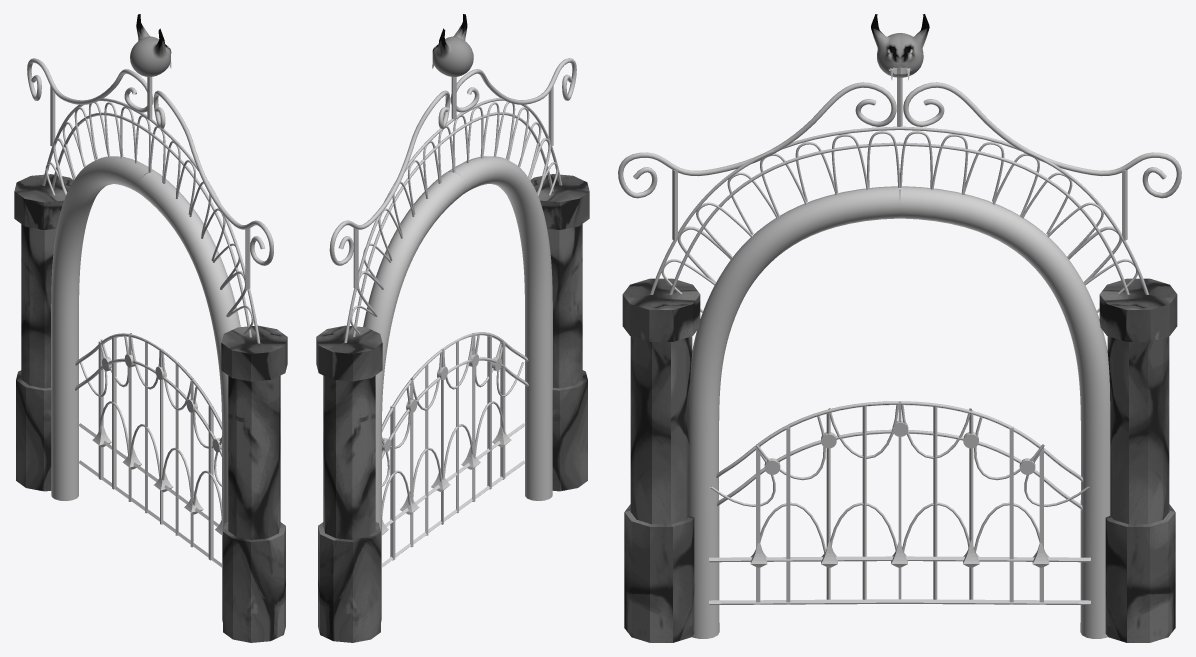
The model's file is arch_FINAL.fbx.
3 views of the same model, side by side, from view 1: azimuth 30°, elevation 25°; view 2: azimuth 150°, elevation 25°; view 3: azimuth 270°, elevation 25° (orthographic). The views are drawn at different scales.
Visible parts, largest first — view 1: Pole, NurbsPath.001, BézierCurve, Cube, test, NurbsPath.002, Cylinder.006, NurbsPath.003, Cylinder.005, BézierCurve.015, Cube.011, Cylinder.002 (+13 smaller); view 2: Pole, NurbsPath.001, BézierCurve, Cube, test, NurbsPath.002, Cylinder.006, NurbsPath.003, Cylinder.005, Cube.011, BézierCurve.015, Cylinder.002 (+13 smaller); view 3: Pole, NurbsPath.001, BézierCurve, NurbsPath.003, NurbsPath.002, test, Cylinder.003, Cylinder.006, BézierCurve.015, Cube, Cylinder, Cylinder.005 (+5 smaller).
Boxes of the visible parts, x1,y1,x2,y2 form: Pole: (14,174,287,642); NurbsPath.001: (51,156,240,621); BézierCurve: (27,58,273,265); Cube: (112,335,213,560); test: (130,14,171,76); NurbsPath.002: (50,112,251,337); Cylinder.006: (145,340,178,535); NurbsPath.003: (42,98,260,343); Cylinder.005: (128,334,193,547); BézierCurve.015: (75,333,221,429); Cube.011: (98,341,222,506); Cylinder.002: (50,86,250,288); Pole: (316,174,589,642); NurbsPath.001: (363,156,552,621); BézierCurve: (329,58,576,265); Cube: (390,335,491,560); test: (432,14,473,76); NurbsPath.002: (352,112,553,336); Cylinder.006: (425,341,458,535); NurbsPath.003: (344,98,562,342); Cylinder.005: (410,334,475,547); Cube.011: (381,341,505,510); BézierCurve.015: (382,332,528,431); Cylinder.002: (353,86,553,288); Pole: (622,278,1177,642); NurbsPath.001: (689,186,1110,638); BézierCurve: (618,82,1181,198); NurbsPath.003: (650,126,1148,294); NurbsPath.002: (669,142,1129,294); test: (871,14,929,77); Cylinder.003: (709,599,1090,604); Cylinder.006: (862,405,937,599); BézierCurve.015: (716,401,1083,481); Cube: (786,426,1013,604); Cylinder: (709,556,1090,562); Cylinder.005: (826,410,973,599).
Bounding box in the file's own units: 109 × 1008 × 833.
